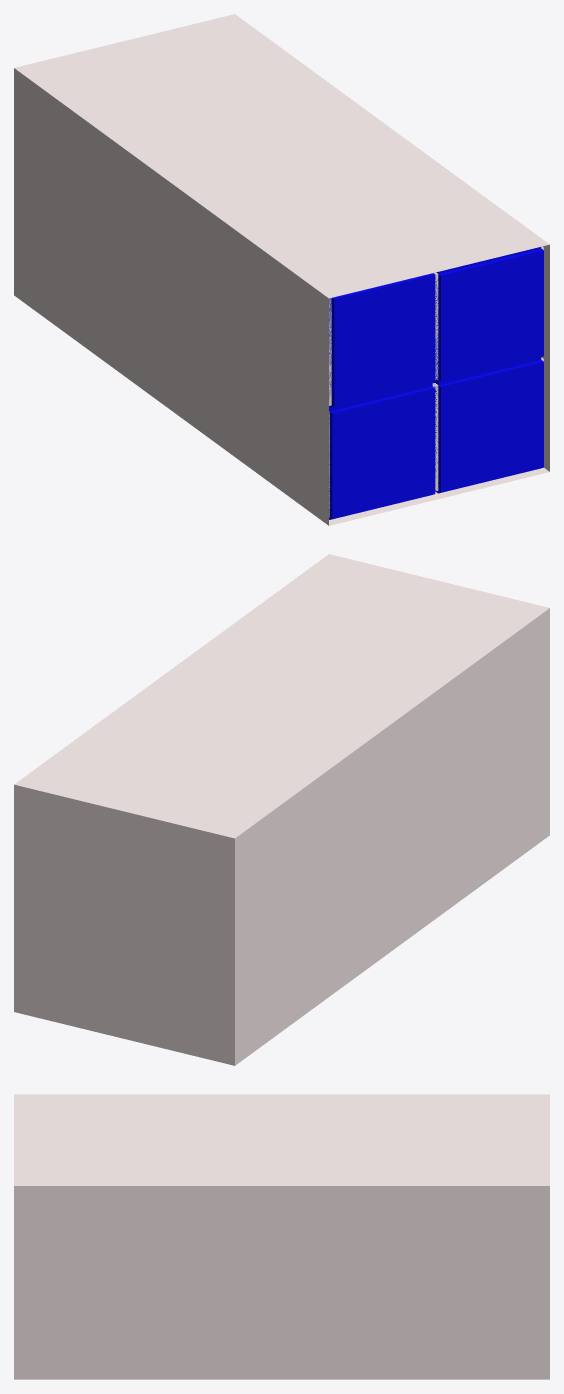
Rendered from Boxes_9.fbx.
The picture shows the model from 3 angles, top to bottom: view 1: azimuth 30°, elevation 25°; view 2: azimuth 150°, elevation 25°; view 3: azimuth 270°, elevation 25°; orthographic projection. The views are drawn at different scales.
Parts seen in each view (by area): view 1: bintop, BinIso20Bottom, binleft, front_5, front_7, front_6, front_4, binbottom; view 2: BinIso20Bottom, bintop, binback; view 3: BinIso20Bottom, binright, bintop.
Boxes of the visible parts, x1,y1,x2,y2 form: bintop: (14,14,549,298); BinIso20Bottom: (14,74,549,525); binleft: (14,68,324,515); front_5: (329,386,435,519); front_7: (331,273,435,407); front_6: (438,248,543,381); front_4: (438,360,543,492); binbottom: (329,467,549,525); BinIso20Bottom: (235,608,549,1065); bintop: (14,554,549,838); binback: (14,784,234,1065); BinIso20Bottom: (14,1186,549,1379); binright: (14,1192,549,1379); bintop: (14,1094,549,1185).
Bounding box in the file's own units: 2390 × 2350 × 5900.
